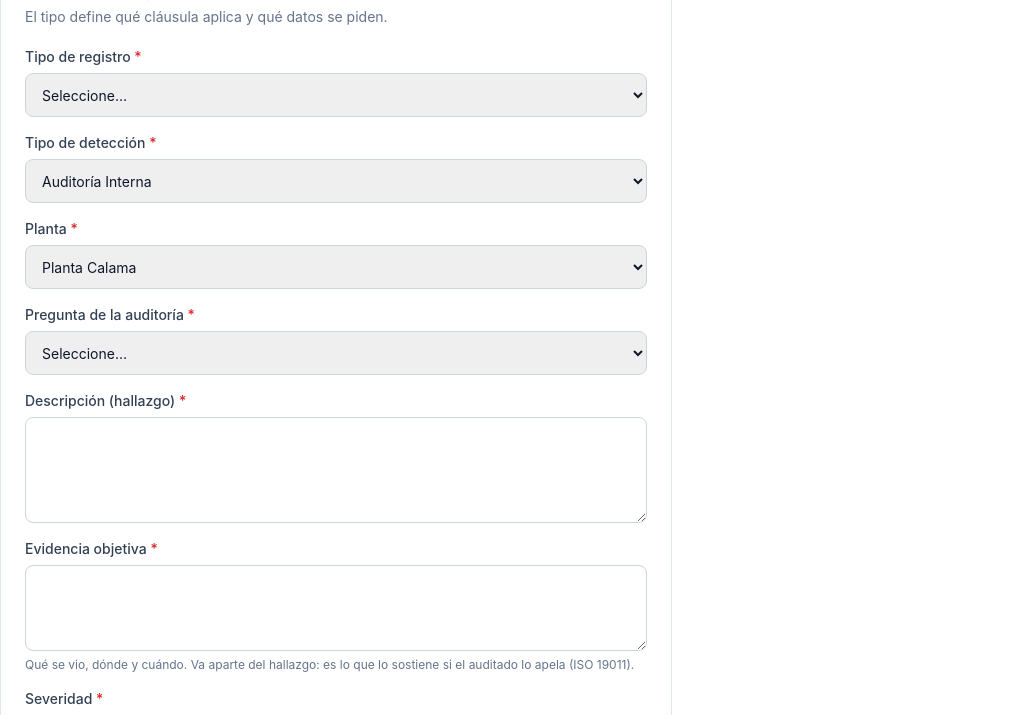
origen de auditoría › sin evidencia objetiva no se manda: un hallazgo sin ella no se sostiene
Select "No Conformidad" in the dropdown labelled "Tipo de registro *" at (336,95), box [25,73,647,117]
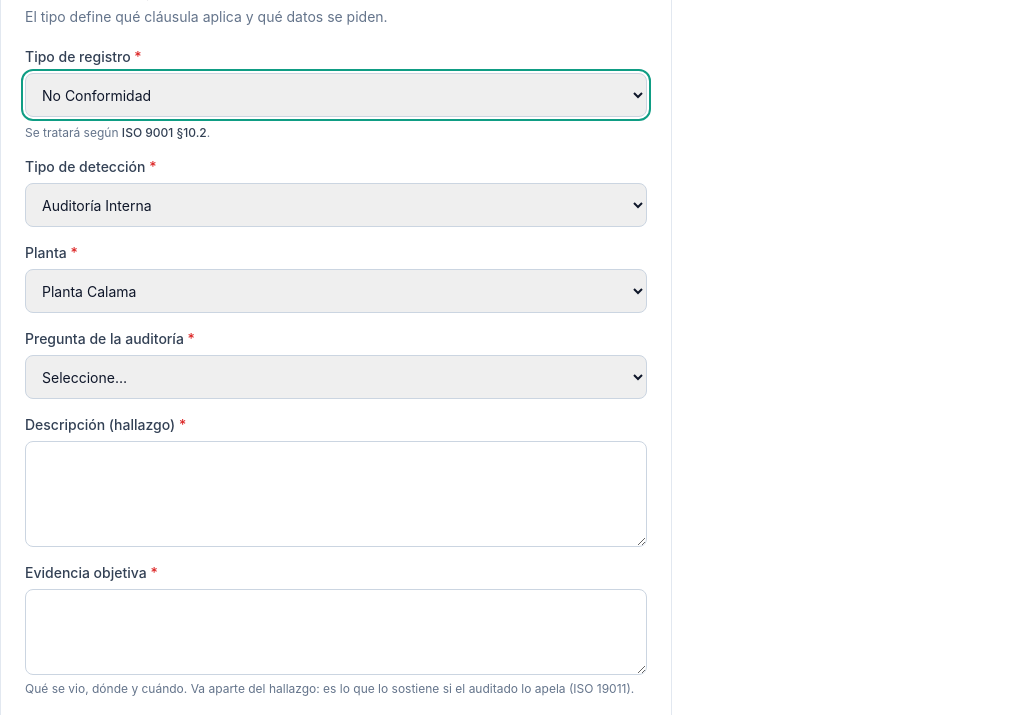
Select "1. ¿Hay contención?" in the dropdown labelled "Pregunta de la auditoría *" at (336,377), box [25,355,647,399]
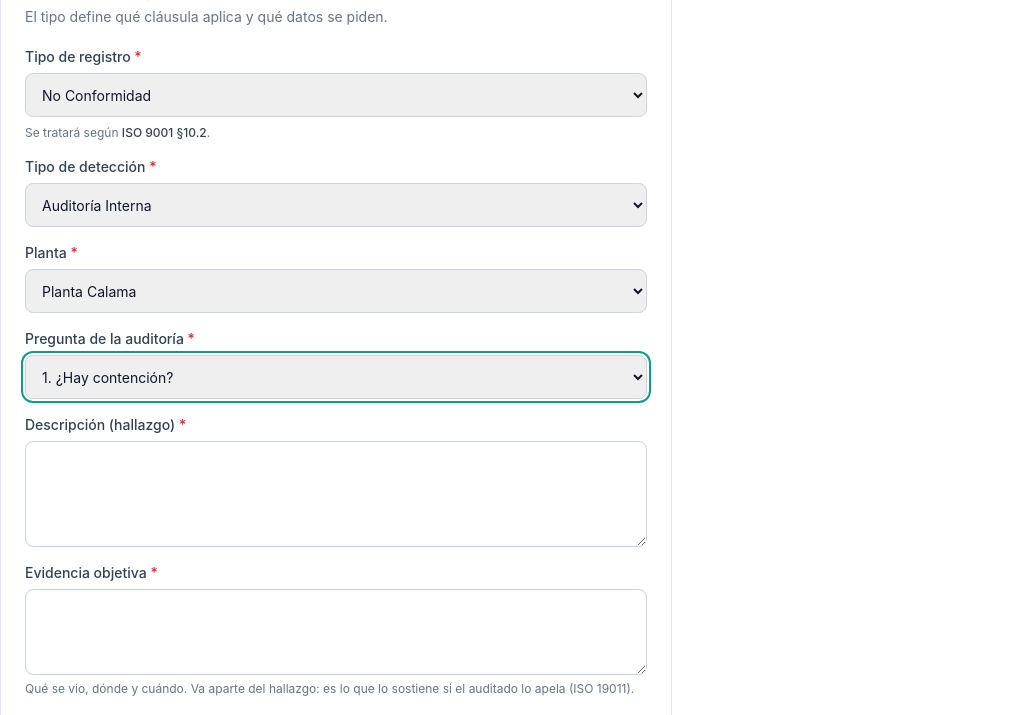
Type "Sin contención" into the text box labelled "Descripción (hallazgo) *".
click(336, 494); type("Sin contención")  # box [25,441,647,547]
(page scrolled)
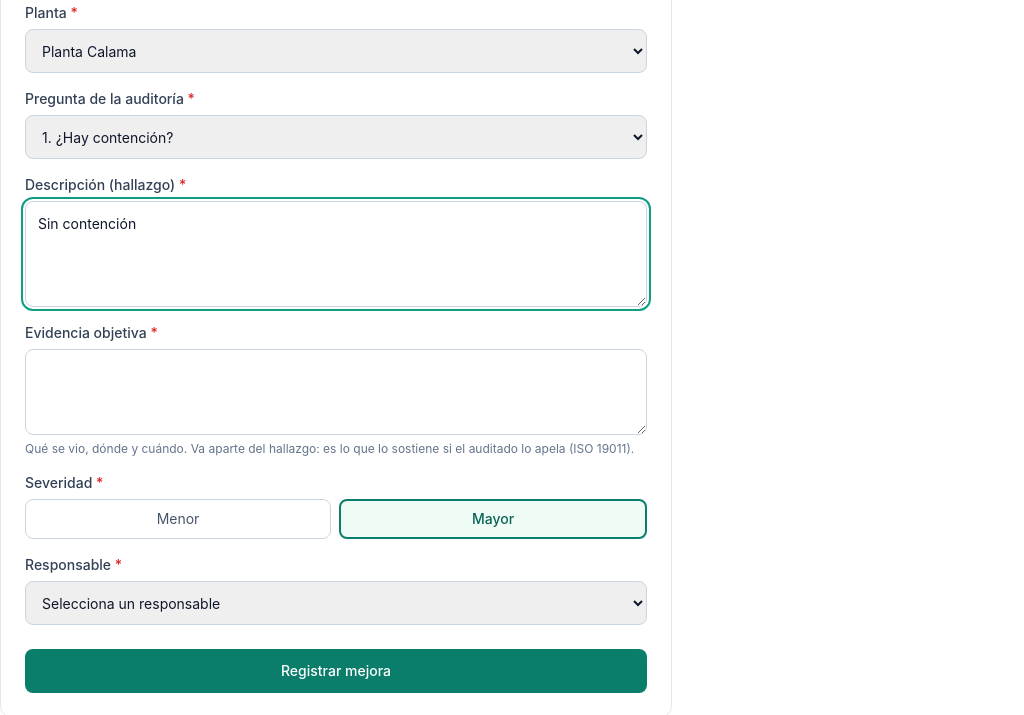
Select "Camila Rojas" in the dropdown labelled "Responsable *" at (336,603), box [25,581,647,625]
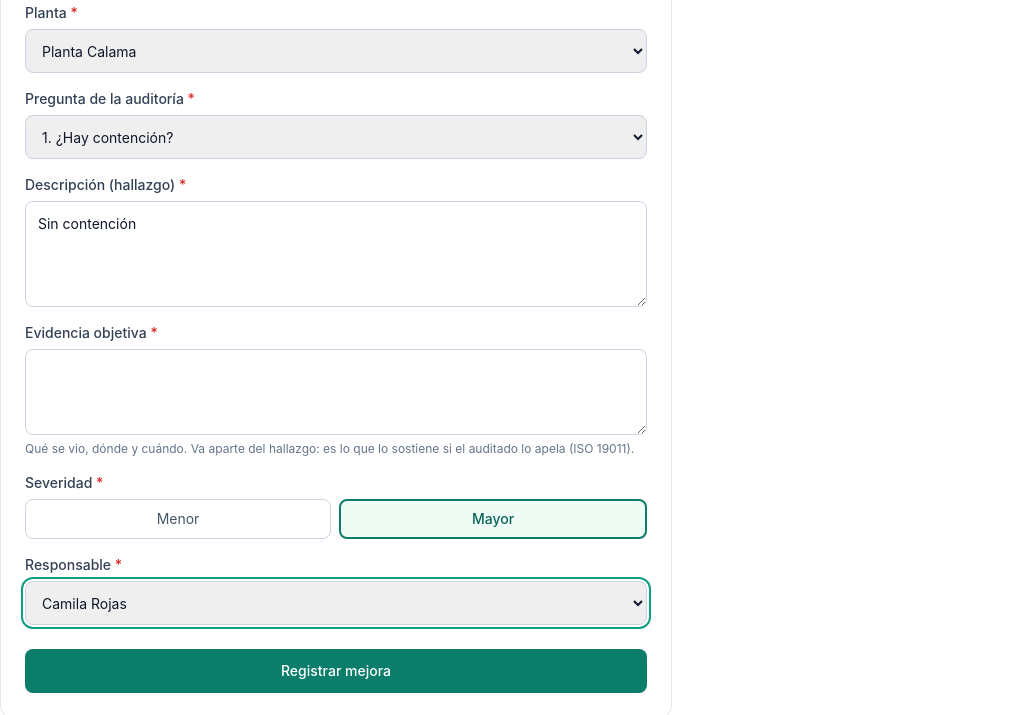
Click the button "Registrar mejora".
click(336, 671)  # box [25,649,647,693]
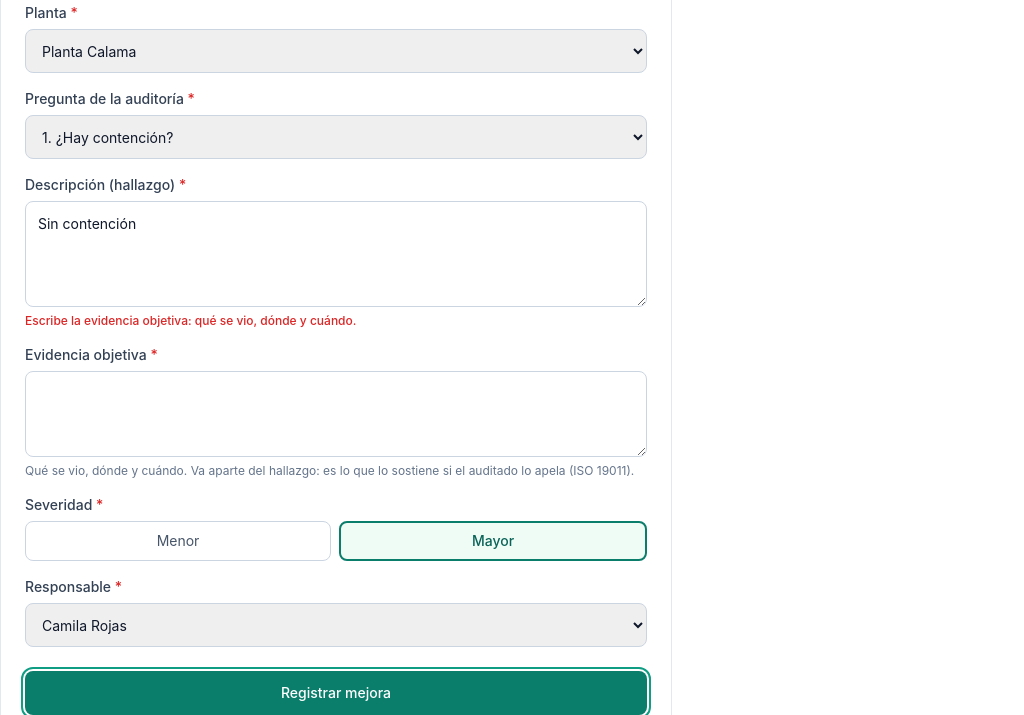
Result: the text "Escribe la evidencia objetiva: qué se vio, dónde y cuándo." is shown at [25,313,356,328]
